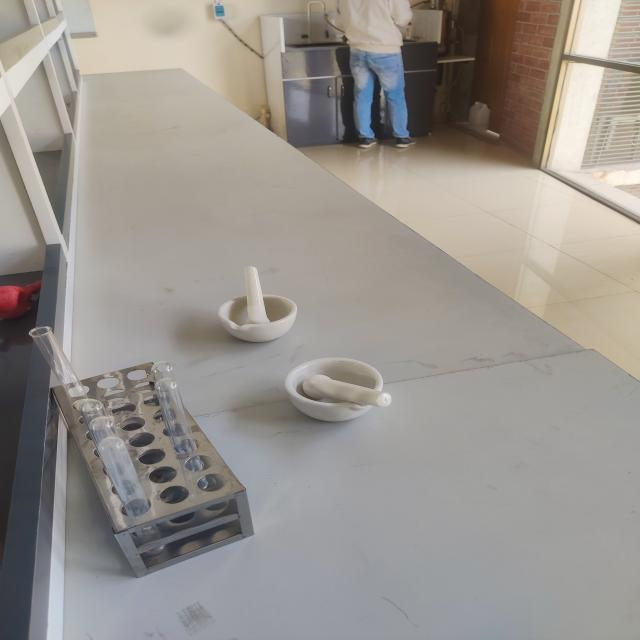Porcelain_Mortar Pestle: (266, 327, 408, 441), (190, 250, 311, 352)
